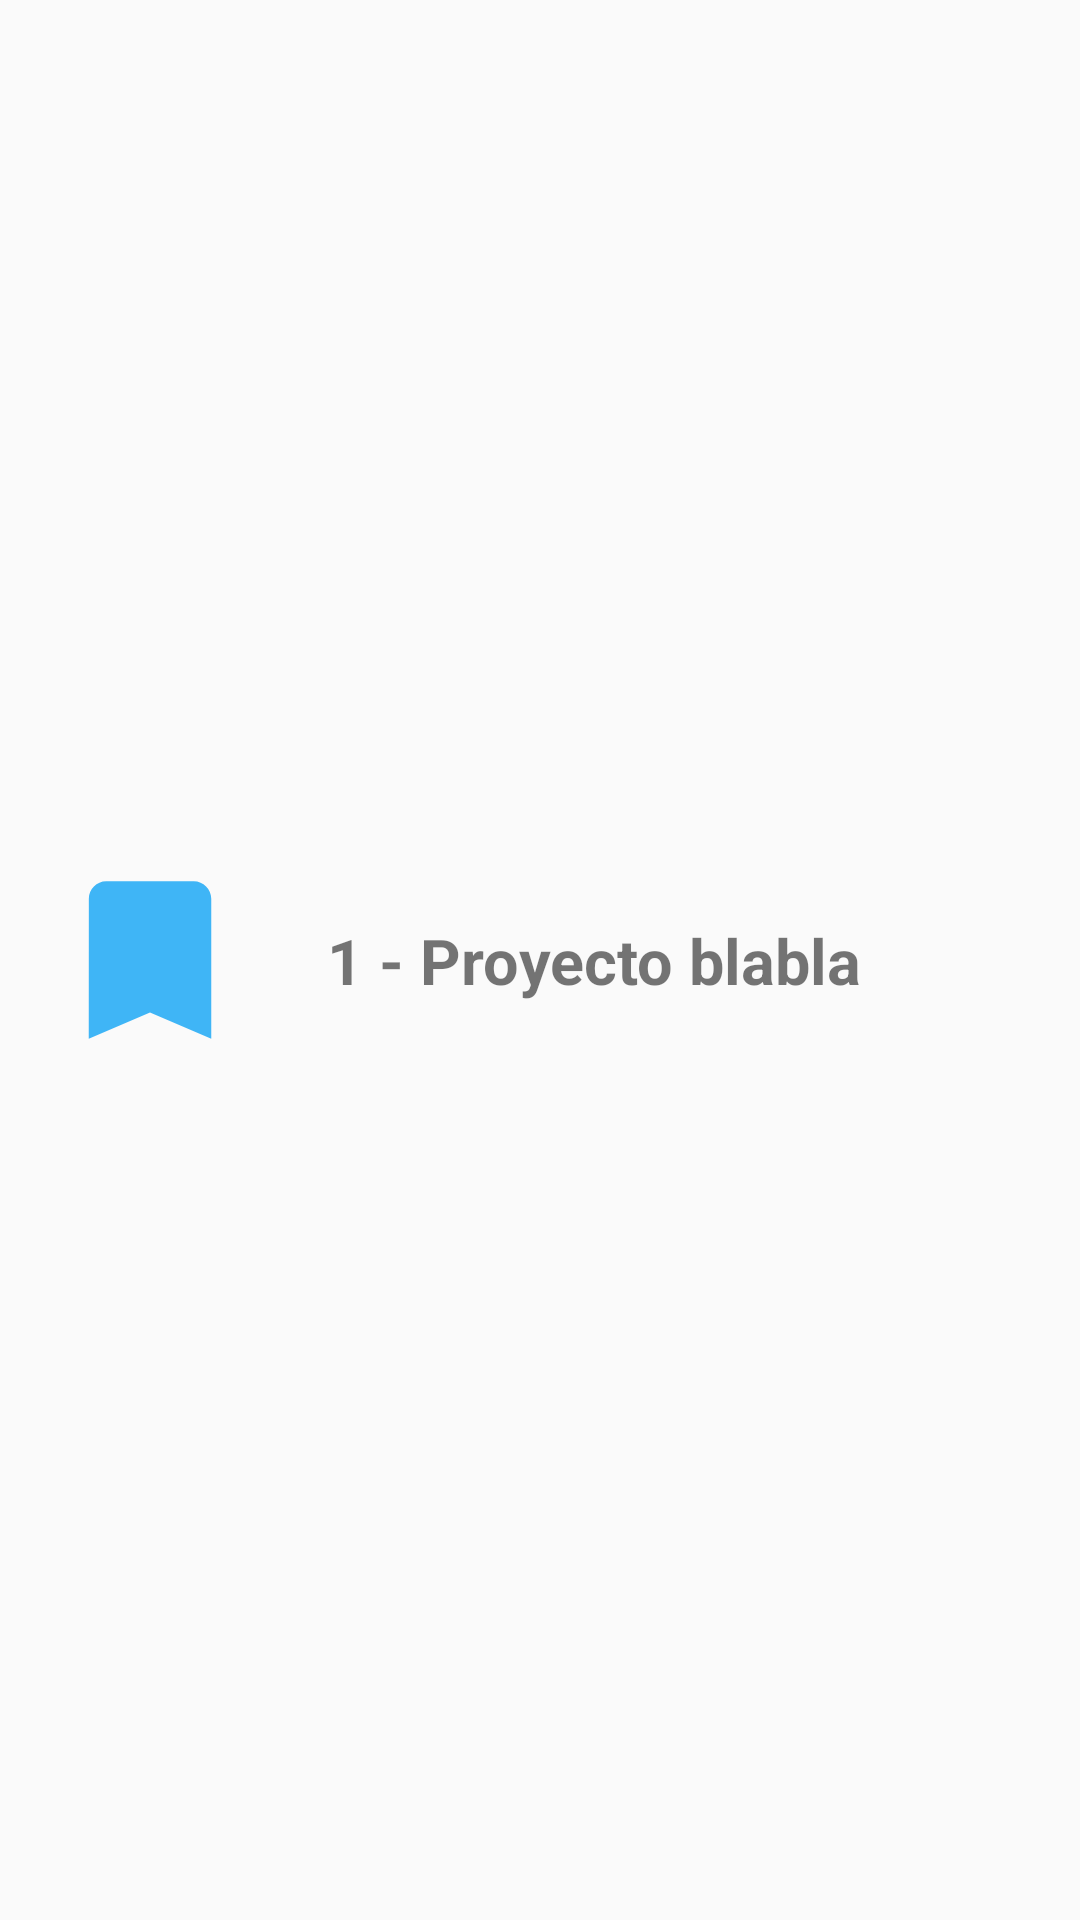

Where to tap for icons on this 1080 x 1920 app screen, as (x,y):
Color de proyecto: (150,960)
